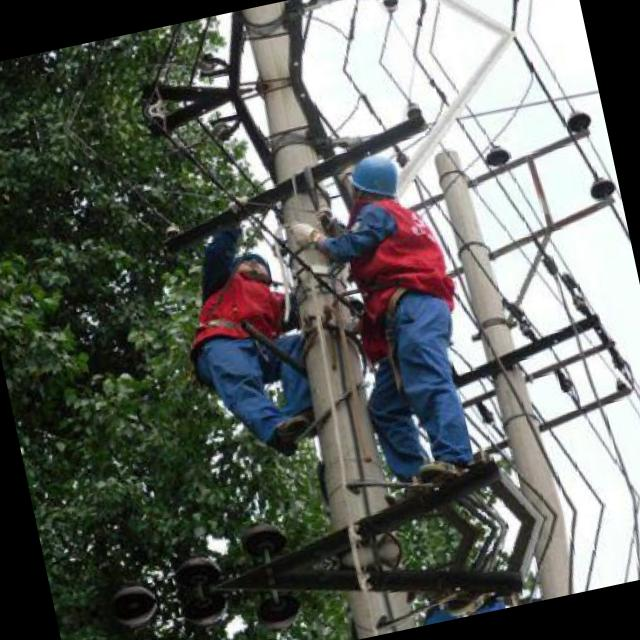helmet: (340, 146, 410, 213), (228, 239, 276, 289)
